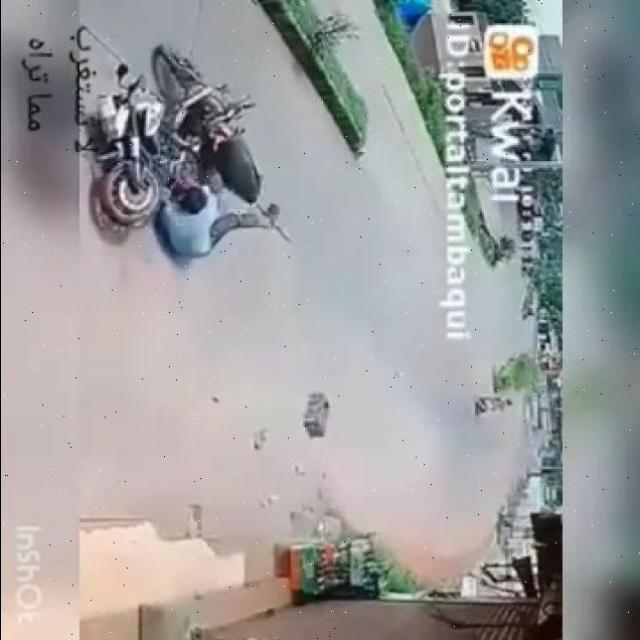accident: (76, 44, 288, 268)
